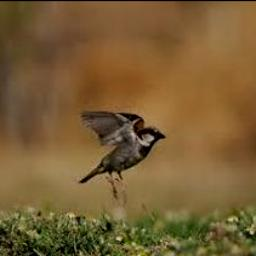Sparrow: (78, 111, 165, 205)
